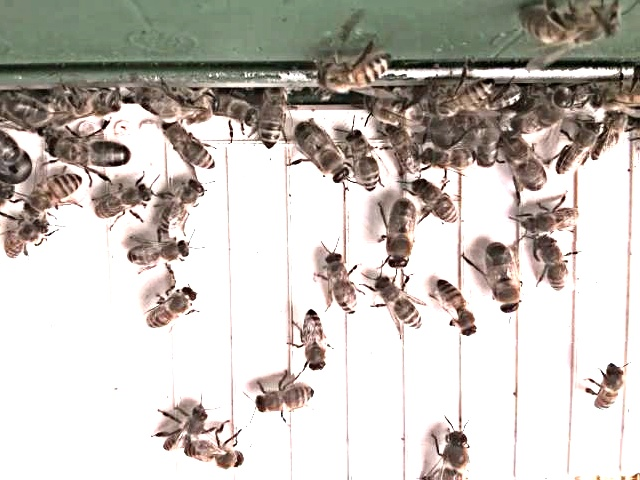Drone: (294, 120, 354, 188), (42, 131, 134, 173), (495, 127, 550, 196), (483, 240, 526, 317), (382, 196, 422, 274)
Worker: (375, 275, 426, 333), (435, 276, 479, 341), (556, 121, 604, 179), (166, 122, 219, 174), (158, 180, 206, 237), (146, 284, 200, 333), (154, 406, 210, 453), (24, 173, 82, 217), (325, 252, 360, 320), (124, 239, 194, 273), (382, 124, 424, 180), (94, 183, 153, 222), (536, 235, 574, 295), (346, 133, 382, 196), (413, 180, 461, 225), (4, 220, 51, 265), (185, 440, 249, 473), (258, 88, 290, 153), (255, 384, 318, 416), (302, 309, 331, 377), (522, 205, 584, 236), (421, 145, 480, 175), (593, 369, 623, 418)
